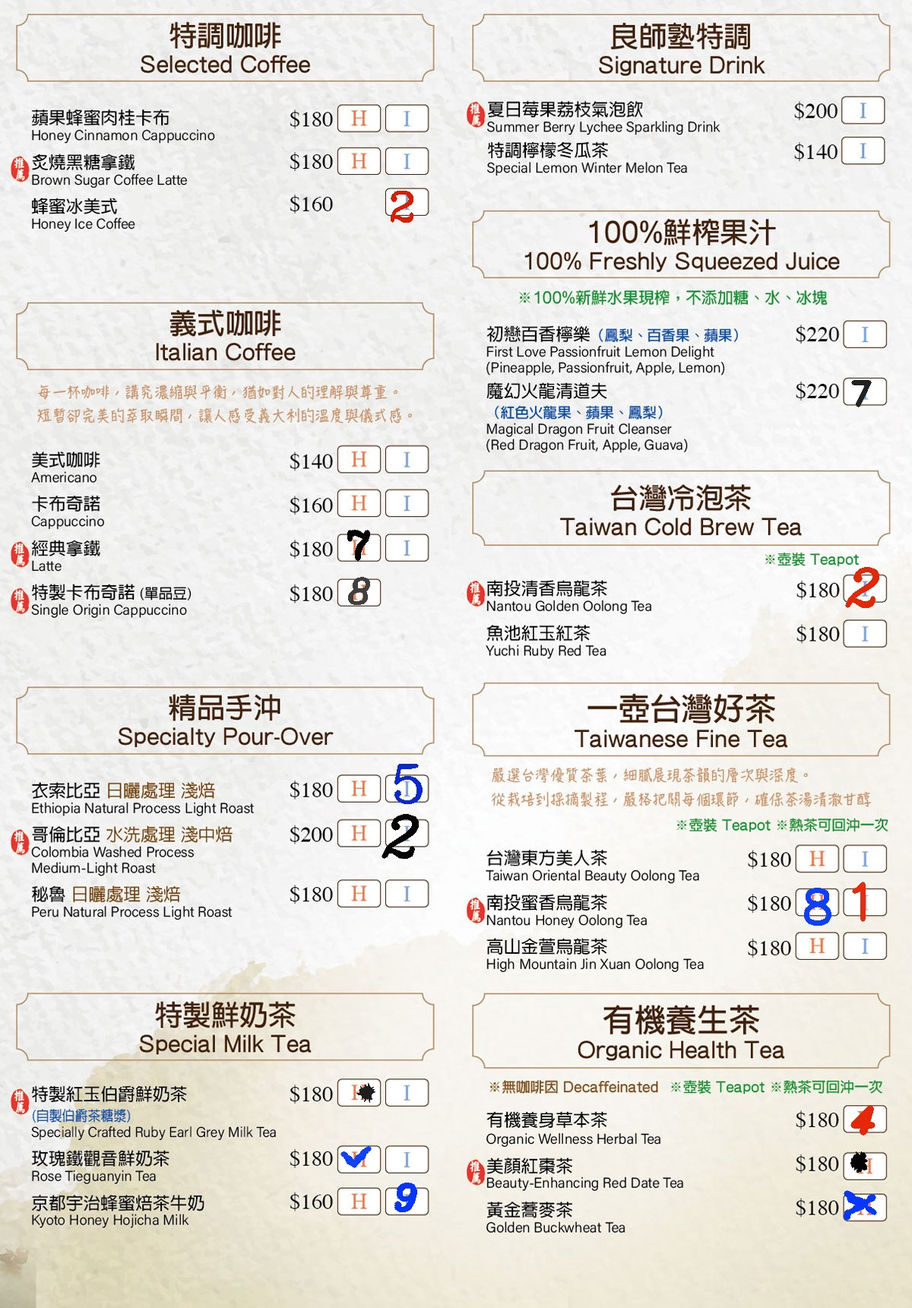marked_circle: (342, 1080, 381, 1104), (846, 1153, 885, 1177)
marked_number_1: (844, 890, 883, 914)
marked_number_2: (846, 576, 885, 600), (387, 190, 426, 214), (385, 822, 424, 845)
marked_number_4: (846, 1106, 885, 1129)
marked_number_5: (387, 775, 426, 799)
marked_number_7: (339, 535, 378, 559), (845, 378, 884, 402)
marked_number_8: (339, 579, 378, 603), (799, 892, 838, 915)
marked_number_9: (387, 1189, 426, 1212)
marked_tick: (340, 1146, 379, 1170)
marked_x: (845, 1194, 884, 1218)
